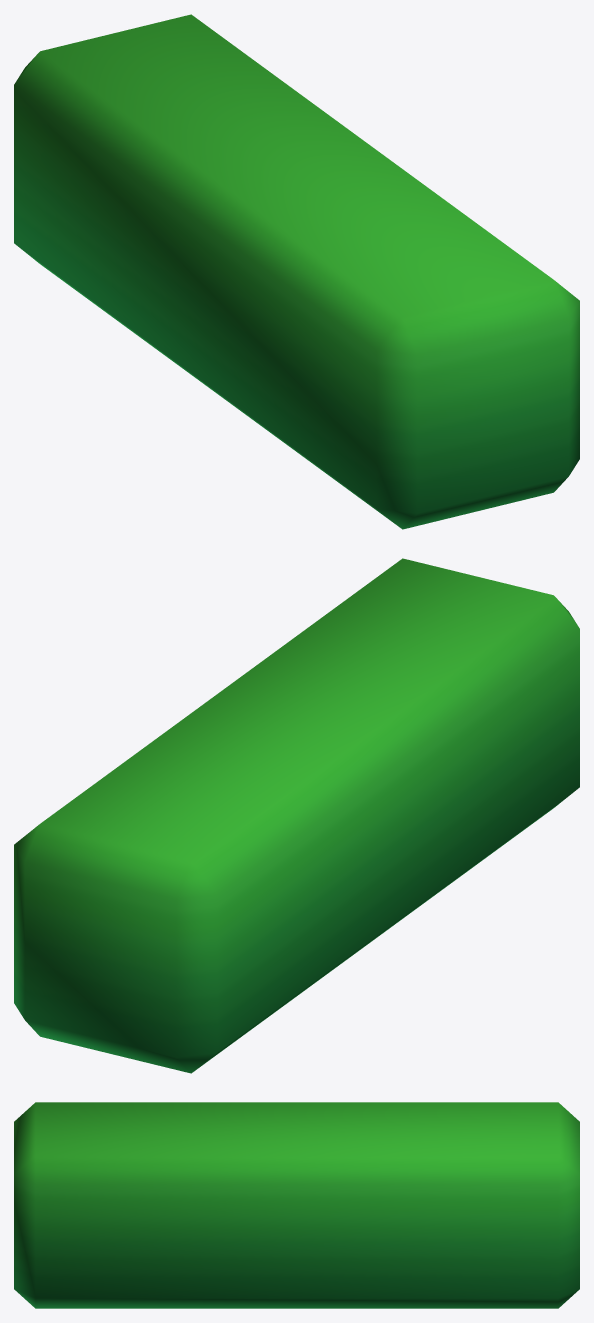
The model's file is Bush_1_B_2.fbx.
The picture shows the model from 3 angles, top to bottom: view 1: azimuth 30°, elevation 25°; view 2: azimuth 150°, elevation 25°; view 3: azimuth 270°, elevation 25°; orthographic projection. The views are drawn at different scales.
Visible parts, largest first — view 1: Bush_1_B_2; view 2: Bush_1_B_2; view 3: Bush_1_B_2.
Part boxes in pixels (box(x1,y1,x2,y2)): Bush_1_B_2: box(14, 14, 579, 529); Bush_1_B_2: box(14, 558, 579, 1073); Bush_1_B_2: box(14, 1102, 579, 1308).
Size of the model in its own units: 61.94 by 61.94 by 207.
